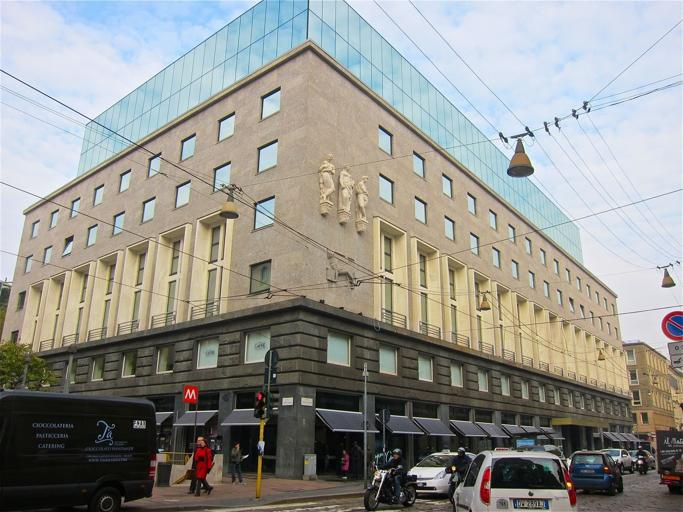non-vehicle: (362, 460, 417, 510), (445, 463, 464, 503), (634, 454, 647, 475)
